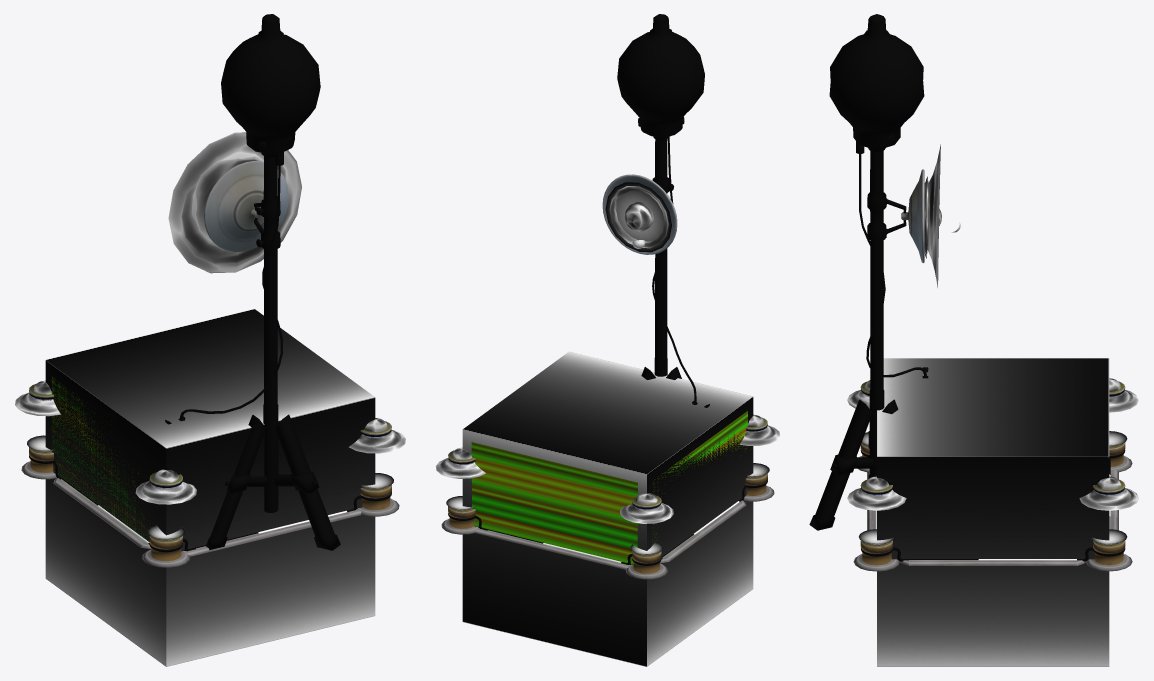
Rendered from PlayerSpawnZoneTeam1.glb.
The picture shows the model from 3 angles, left to right: view 1: azimuth 30°, elevation 25°; view 2: azimuth 150°, elevation 25°; view 3: azimuth 270°, elevation 25°; orthographic projection. The views are drawn at different scales.
Visible parts, largest first — view 1: SpawnZoneArea (×2), PillarModel, SMPConeVFX, ParabolModel, SMPConeVFX (2) (×3), BodyBot_LP (×3), LinkPanel_LP (×2); view 2: SpawnZoneArea (×2), PillarModel, SMPConeVFX (2) (×3), SMPSpawnParabolVFX1, BodyBot_LP (×3), LinkPanel_LP (×2), ParabolModel, VFXparabol, Glove; view 3: SpawnZoneArea, PillarModel, SMPConeVFX (2) (×3), BodyBot_LP (×2), SMPConeVFX, ParabolModel, LinkPanel_LP.
Boxes of the visible parts, bbox=[...] form: SpawnZoneArea (×2): bbox=[45, 309, 375, 666]; PillarModel: bbox=[165, 14, 340, 550]; SMPConeVFX: bbox=[168, 132, 301, 273]; ParabolModel: bbox=[204, 161, 288, 251]; SMPConeVFX (2) (×3): bbox=[15, 380, 405, 504]; BodyBot_LP (×3): bbox=[21, 447, 399, 567]; LinkPanel_LP (×2): bbox=[53, 479, 361, 556]; SpawnZoneArea (×2): bbox=[462, 351, 753, 666]; PillarModel: bbox=[617, 14, 709, 407]; SMPConeVFX (2) (×3): bbox=[435, 414, 779, 523]; SMPSpawnParabolVFX1: bbox=[605, 182, 671, 252]; BodyBot_LP (×3): bbox=[441, 473, 774, 579]; LinkPanel_LP (×2): bbox=[475, 503, 745, 569]; ParabolModel: bbox=[602, 174, 677, 254]; VFXparabol: bbox=[609, 186, 668, 248]; Glove: bbox=[624, 202, 653, 231]; SpawnZoneArea: bbox=[877, 358, 1109, 666]; PillarModel: bbox=[809, 14, 928, 530]; SMPConeVFX (2) (×3): bbox=[847, 378, 1138, 510]; BodyBot_LP (×2): bbox=[853, 540, 1132, 571]; SMPConeVFX: bbox=[927, 144, 940, 287]; ParabolModel: bbox=[901, 169, 924, 263]; LinkPanel_LP: bbox=[909, 560, 1076, 565].
Size of what is drawn, in the model's own units: 1.26 by 2.86 by 1.42.
Materials: 16 (13 with a texture image).
